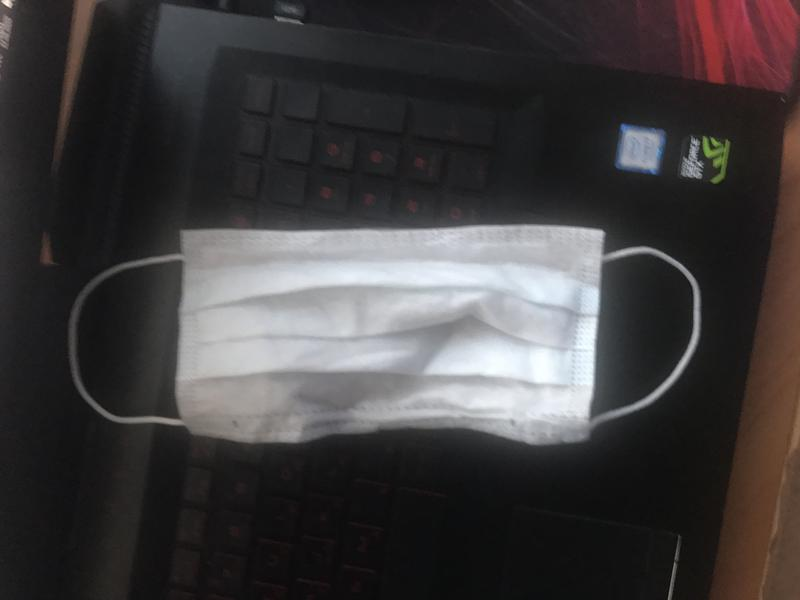medical_mask: (67, 221, 705, 447)
